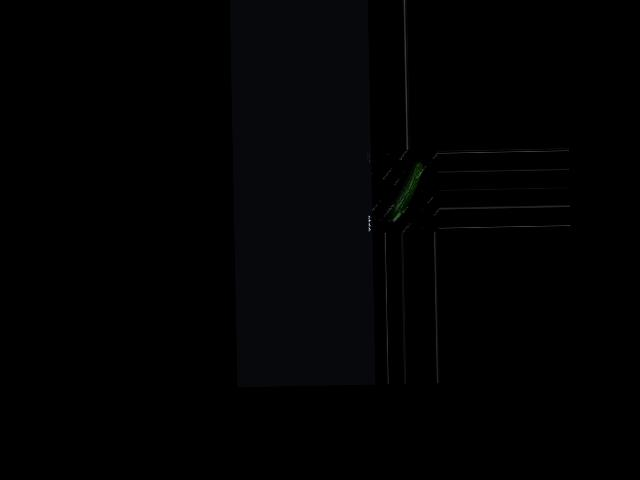cucumber: (384, 161, 424, 222)
